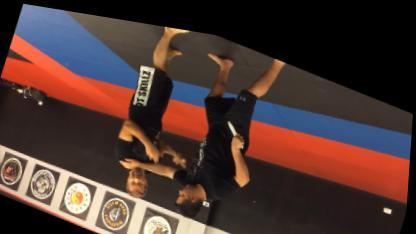knife: (220, 109, 253, 145)
